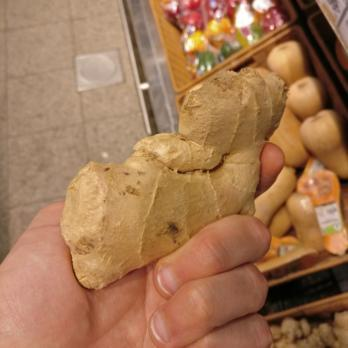Ginger: (50, 62, 289, 291)
